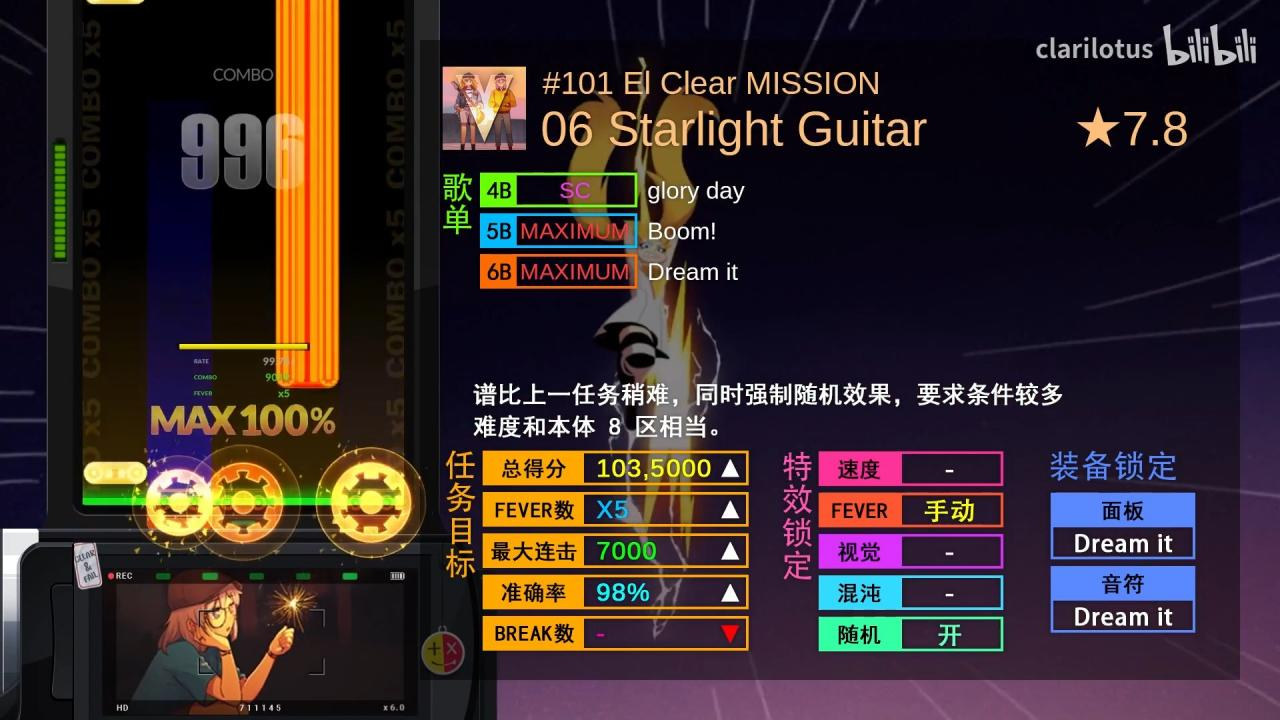hold-start: (275, 361, 339, 387)
note: (84, 462, 147, 485), (88, 0, 144, 5)
